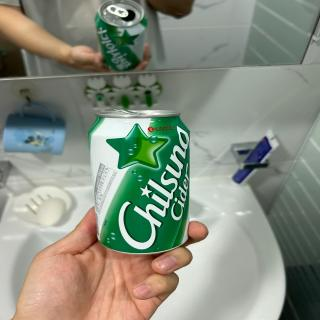cocacola: (85, 108, 194, 258)
